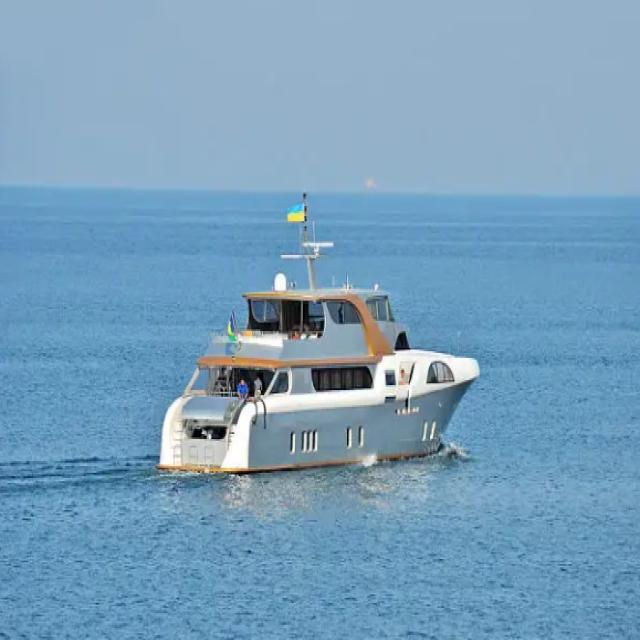passenger ship: (151, 228, 482, 468)
